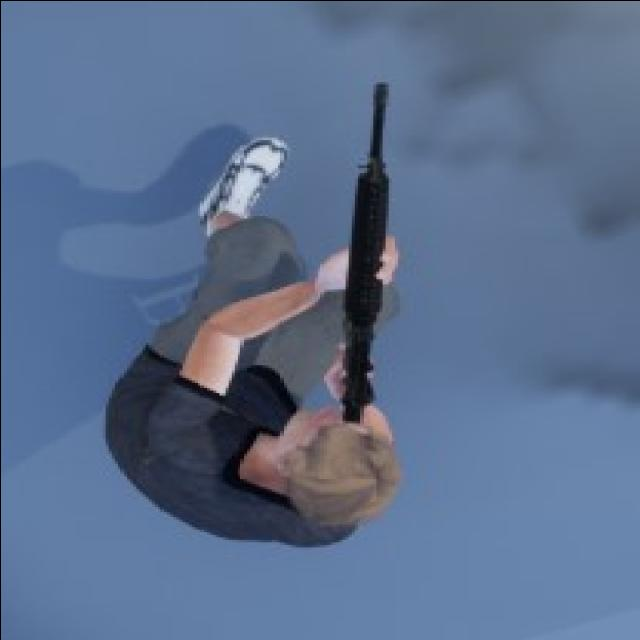rifle: (334, 81, 390, 434)
